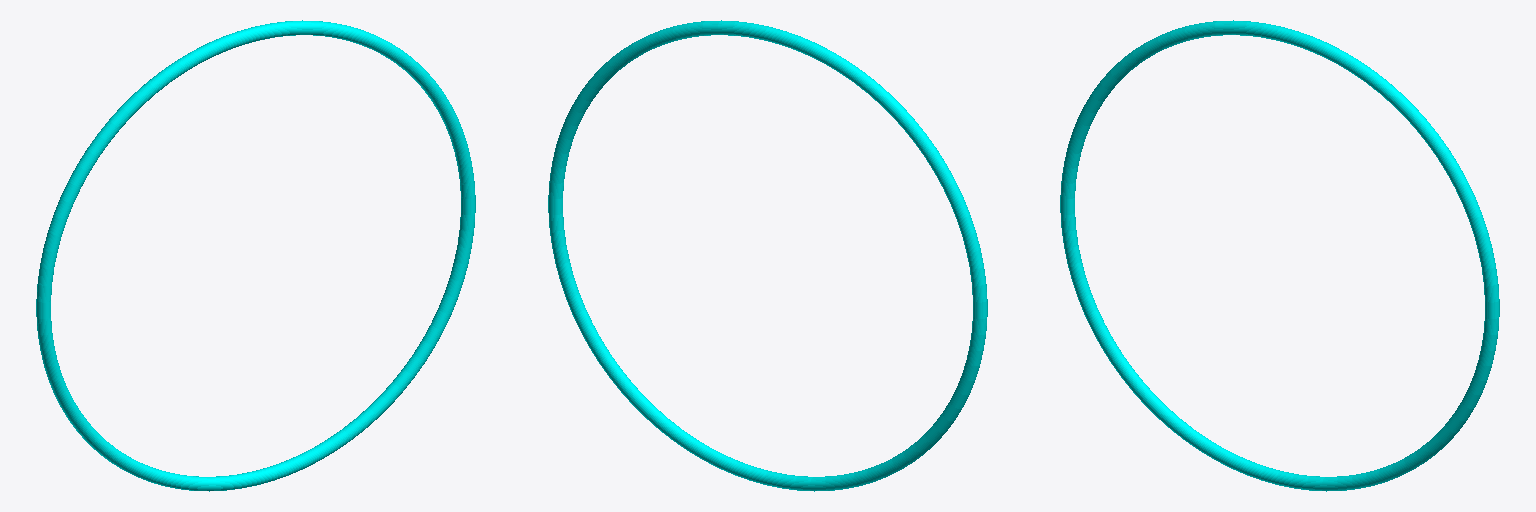
robot.urdf — hollow_circle:
<?xml version="0.0" ?>
<robot name="hollow_circle">
    <link name="hollow_circle">
        <contact>
            <lateral_friction value="1"/>
        </contact>

        <inertial>
            <origin xyz="0 0 0" rpy="0 0 0"/>
            <mass value="0.0"/>
            <inertia ixx="0"  ixy="0"  ixz="0" iyy="0" iyz="0" izz="0" />
        </inertial>

        <visual>
            <origin xyz="0 0 0" rpy="0 0 0" />
            <geometry>
                <mesh filename="package://scene/meshes/hollow_circle.STL"/>
            </geometry>
            <material name="Cyan">
                <color rgba="0 1.0 1.0 1.0"/>
            </material>
        </visual>

        <collision>
            <origin xyz="0 0 0" rpy="0 0 0"/>
            <geometry>
                <mesh filename="package://scene/meshes/hollow_circle.STL"/>
            </geometry>
        </collision>
    </link>
</robot>

--- Render facts (derived) ---
Views: 3 orthographic renders of the robot side by side, from view 1: azimuth 30°, elevation 25°; view 2: azimuth 150°, elevation 25°; view 3: azimuth 330°, elevation 25°.
Model hollow_circle with 1 links and 0 joints (none), rooted at hollow_circle, posed every joint at zero.
Links seen in each view (by area): view 1: hollow_circle; view 2: hollow_circle; view 3: hollow_circle.
Link boxes in pixels (box(x1,y1,x2,y2)): hollow_circle: box(36, 20, 475, 491); hollow_circle: box(548, 20, 987, 491); hollow_circle: box(1060, 20, 1499, 491).
Bounding box of the posed robot: 1.03 × 0.03 × 1.03 m (x, y, z).
1 mesh visuals loaded from 1 distinct referenced files (1 binary STL).